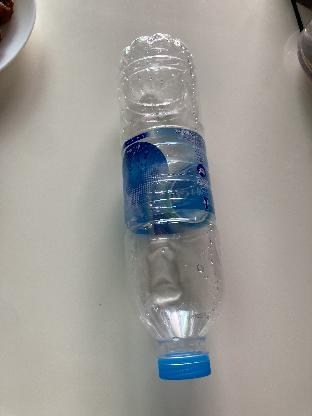Plastic Bottle: (112, 32, 226, 380)
